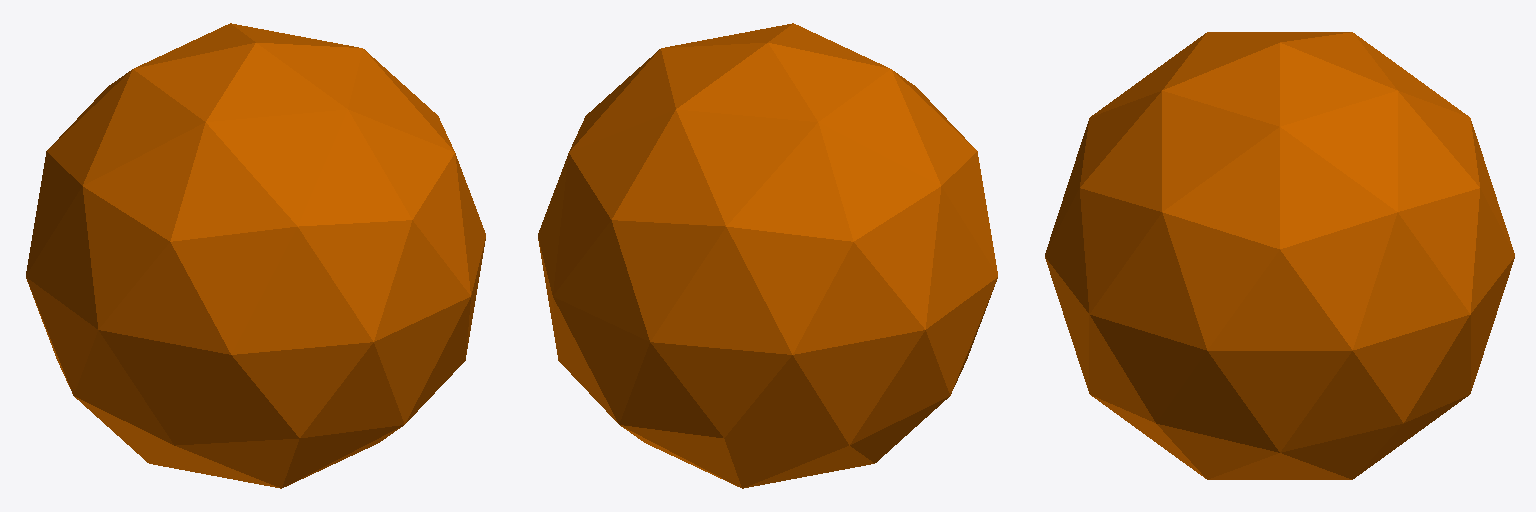
The model's file is rock.obj.
3 views of the same model, side by side, from view 1: azimuth 30°, elevation 25°; view 2: azimuth 150°, elevation 25°; view 3: azimuth 270°, elevation 25° (orthographic).
Visible parts, largest first — view 1: Icosphere; view 2: Icosphere; view 3: Icosphere.
Boxes of the visible parts, <box> form: Icosphere: <box>26,23,485,488</box>; Icosphere: <box>538,23,997,488</box>; Icosphere: <box>1045,32,1514,479</box>.
Size of the model in its own units: 0.9511 by 1 by 1.